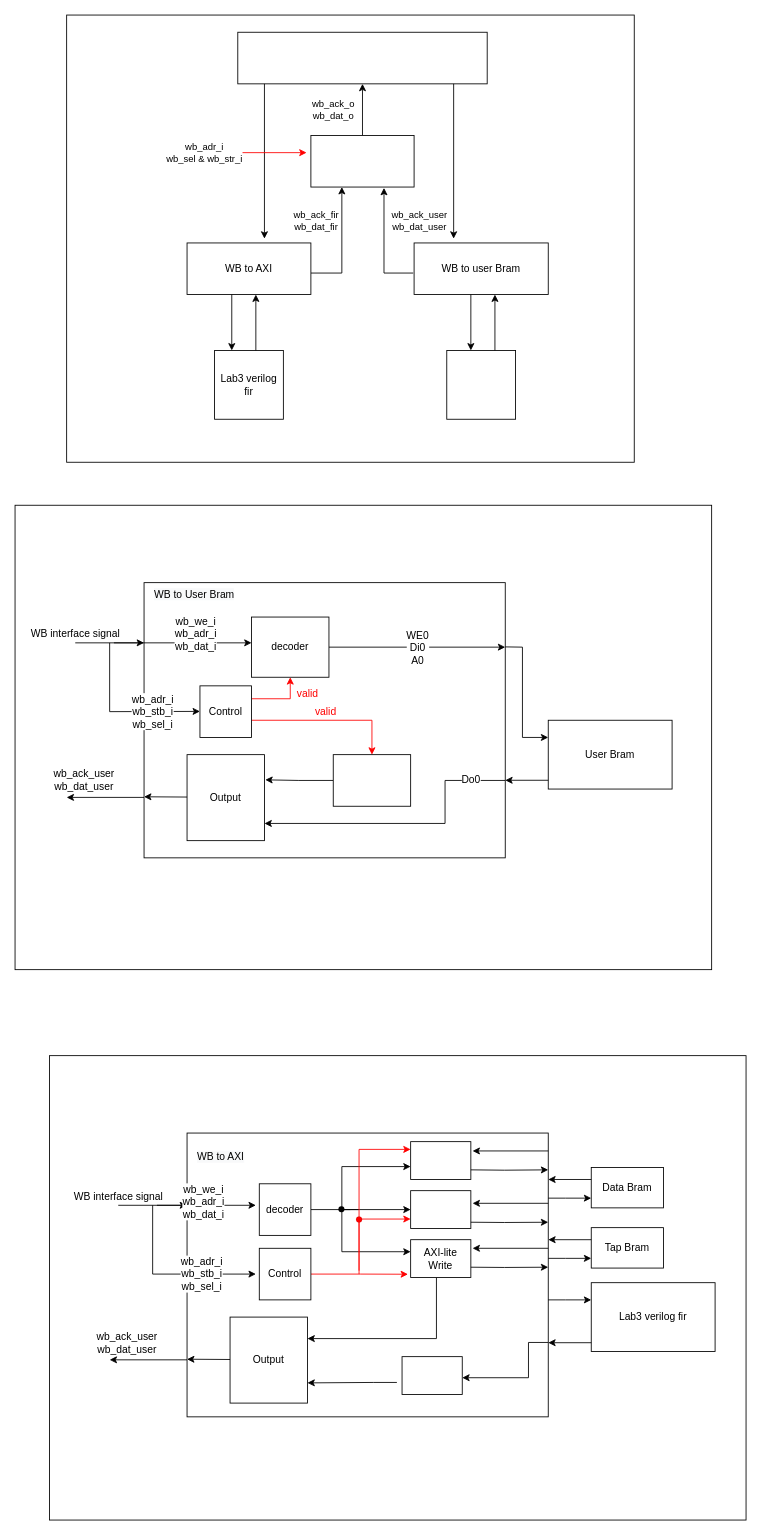
This 761x1535 diagram has some shape labels left out. Here are the shapes that lost their labels. From the top down, the centre of each, then its label:
At point 362,57: "WB IO interface".
At point 362,161: "OUT select".
At point 481,384: "Lab4-1".
At point 371,780: "Delay control".
At point 440,1160: "AXI-lite Read".
At point 440,1209: "AXI-stream Read".
At point 431,1375: "AXI-stream Write".
